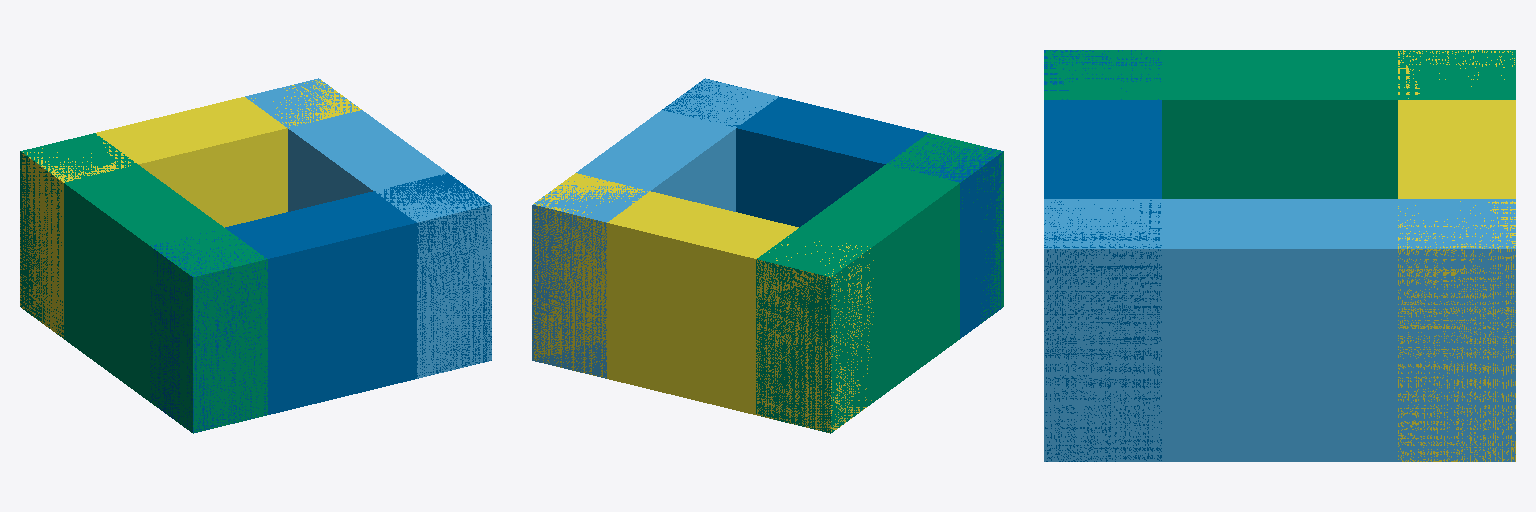
robot.urdf — base10x10:
<?xml version="1.0" ?>
<robot name="base10x10">
  <link name="base_link">
    <!--<visual>
      <geometry>
        <mesh filename="base10x10.stl" scale="1 1 1" />
      </geometry>
      <material name="white">
        <color rgba="1 1 1 1"/>
      </material>
    </visual>
    <collision>
      <geometry>
        <mesh filename="base10x10.stl" scale="1 1 1" />
      </geometry>
    </collision>
    <contact>
      <lateral_friction value="1.0" />
      <rolling_friction value="0.0" />
    </contact>-->
    <inertial>
      <mass value="0.0" />
      <inertia ixx="1" ixy="0" ixz="0" iyy="1" iyz="0" izz="1" />
    </inertial>
  </link>
  
  <link name="collision_right_link">
    <visual>
      <material name="white"/>
      <geometry>
        <box size="0.05 0.2 0.1"/>
      </geometry>
      <origin rpy="0 0 0" xyz="0 0 0"/>
    </visual>
    <collision>
      <geometry>
        <box size="0.05 0.2 0.1"/>
      </geometry>
    </collision>
     <inertial>
      <mass value="0"/>
      <inertia ixx="1.0" ixy="0.0" ixz="0.0" iyy="1.0" iyz="0.0" izz="1.0"/>
    </inertial>
  </link>
  <joint name="base_to_right_collision" type="fixed">
    <parent link="base_link"/>
    <child link="collision_right_link"/>
    <origin xyz="0.075 0 0.05"/>
  </joint>
  
  <link name="collision_left_link">
    <visual>
      <material name="white"/>
      <geometry>
        <box size="0.05 0.2 0.1"/>
      </geometry>
      <origin rpy="0 0 0" xyz="0 0 0"/>
    </visual>
    <collision>
      <geometry>
        <box size="0.05 0.2 0.1"/>
      </geometry>
    </collision>
     <inertial>
      <mass value="0"/>
      <inertia ixx="1.0" ixy="0.0" ixz="0.0" iyy="1.0" iyz="0.0" izz="1.0"/>
    </inertial>
  </link>
  <joint name="base_to_left_collision" type="fixed">
    <parent link="base_link"/>
    <child link="collision_left_link"/>
    <origin xyz="-0.075 0 0.05"/>
  </joint>
  
  <link name="collision_back_link">
    <visual>
      <material name="white"/>
      <geometry>
        <box size="0.2 0.05 0.1"/>
      </geometry>
      <origin rpy="0 0 0" xyz="0 0 0"/>
    </visual>
    <collision>
      <geometry>
        <box size="0.2 0.05 0.1"/>
      </geometry>
    </collision>
     <inertial>
      <mass value="0"/>
      <inertia ixx="1.0" ixy="0.0" ixz="0.0" iyy="1.0" iyz="0.0" izz="1.0"/>
    </inertial>
  </link>
  <joint name="base_to_back_collision" type="fixed">
    <parent link="base_link"/>
    <child link="collision_back_link"/>
    <origin xyz="0.0 0.075 0.05"/>
  </joint>

  <link name="collision_front_link">
    <visual>
      <material name="white"/>
      <geometry>
        <box size="0.2 0.05 0.1"/>
      </geometry>
      <origin rpy="0 0 0" xyz="0 0 0"/>
    </visual>
    <collision>
      <geometry>
        <box size="0.2 0.05 0.1"/>
      </geometry>
    </collision>
     <inertial>
      <mass value="0"/>
      <inertia ixx="1.0" ixy="0.0" ixz="0.0" iyy="1.0" iyz="0.0" izz="1.0"/>
    </inertial>
  </link>
  <joint name="base_to_front_collision" type="fixed">
    <parent link="base_link"/>
    <child link="collision_front_link"/>
    <origin xyz="0.0 -0.075 0.05"/>
  </joint>


</robot>

--- Facts derived from the render (not from the file) ---
The picture shows the robot from 3 angles, left to right: view 1: azimuth 30°, elevation 25°; view 2: azimuth 150°, elevation 25°; view 3: azimuth 270°, elevation 25°; orthographic projection.
Model base10x10 with 5 links and 4 joints (4 fixed), rooted at base_link, posed all joints at 0.
Visible links, largest first — view 1: collision_left_link, collision_front_link, collision_right_link, collision_back_link; view 2: collision_back_link, collision_left_link, collision_front_link, collision_right_link; view 3: collision_right_link, collision_left_link, collision_front_link, collision_back_link.
Link boxes in pixels (box(x1,y1,x2,y2)): collision_left_link: box(20, 133, 267, 433); collision_front_link: box(150, 173, 491, 432); collision_right_link: box(245, 78, 491, 378); collision_back_link: box(20, 80, 361, 338); collision_back_link: box(532, 173, 873, 432); collision_left_link: box(756, 133, 1003, 433); collision_front_link: box(662, 79, 1003, 338); collision_right_link: box(532, 78, 777, 378); collision_right_link: box(1044, 199, 1515, 461); collision_left_link: box(1044, 50, 1515, 198); collision_front_link: box(1044, 50, 1161, 461); collision_back_link: box(1398, 50, 1515, 461).
Bounding box of the posed robot: 0.2 × 0.2 × 0.1 m (x, y, z).
Geometry: primitives only (box / cylinder / sphere), no mesh files.